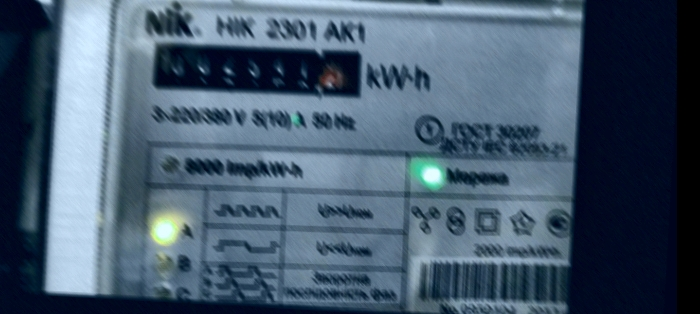0: (167, 49, 186, 76), (195, 48, 210, 76)
1: (295, 51, 309, 79)
2: (219, 49, 236, 75)
4: (271, 51, 285, 75)
5: (244, 50, 263, 78)
6: (321, 70, 337, 89)
screen: (140, 26, 376, 110)
